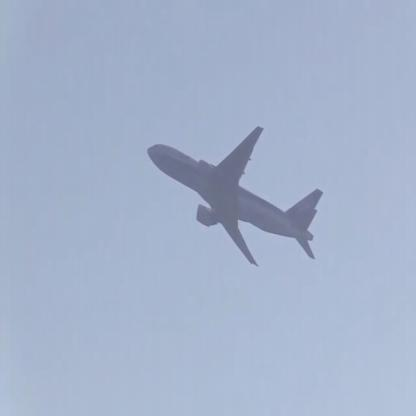CIV_Plane: (148, 125, 328, 268)
